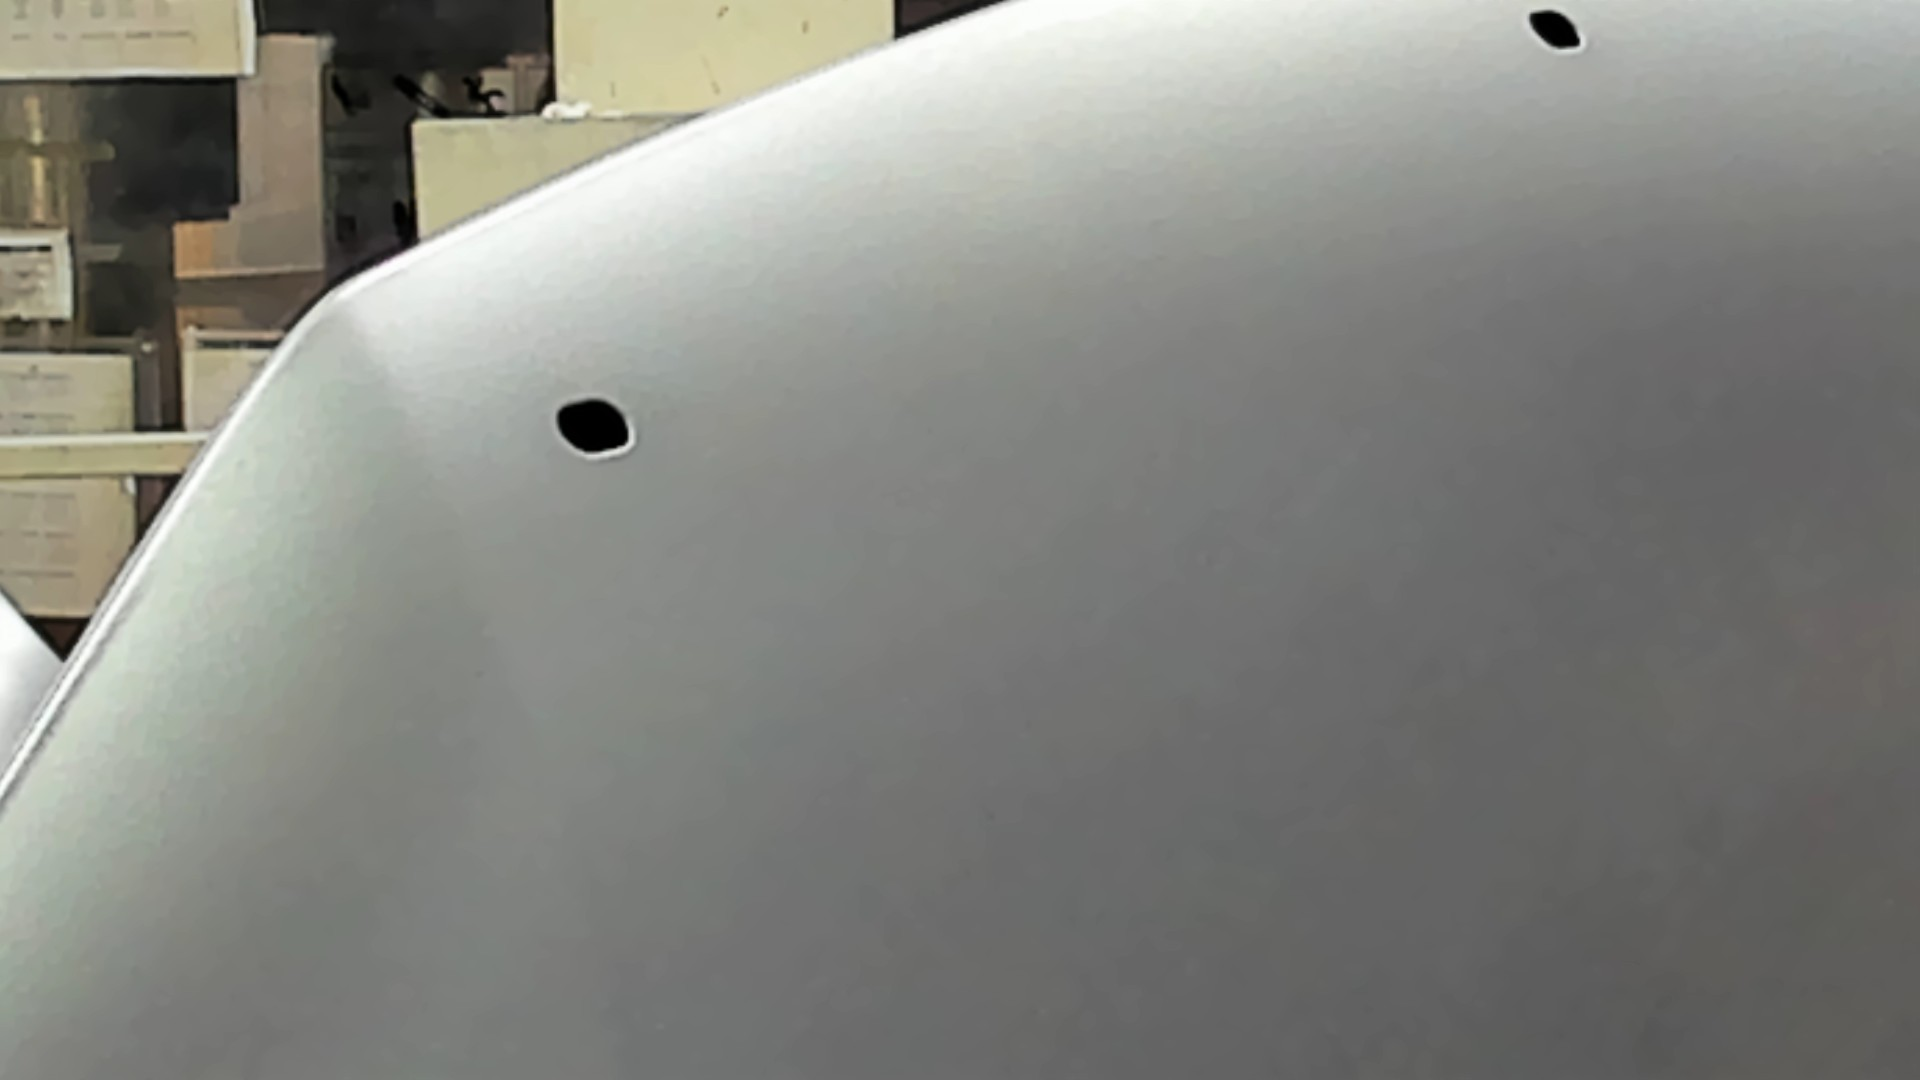amorfo: (547, 389, 642, 463), (1520, 1, 1588, 65)
capo: (783, 128, 1920, 1080)
